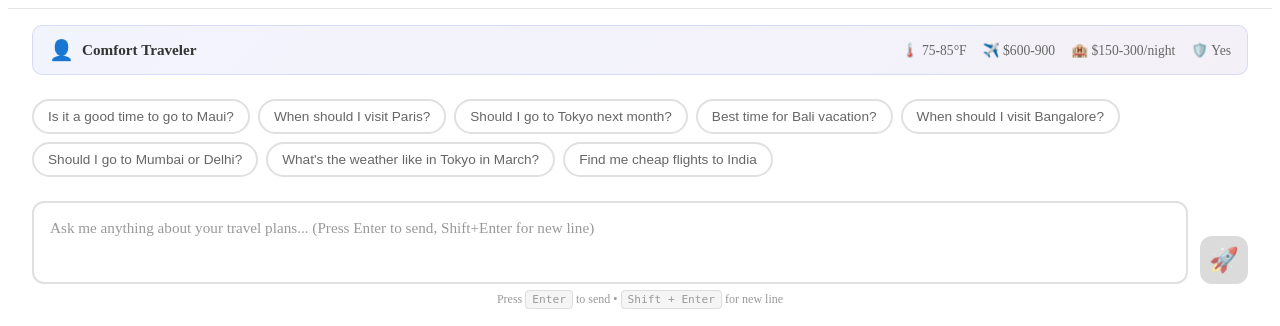
Scenario: ChatInput Component › Example Queries › fills input when example query is clicked
Click the button "Is it a good time to go to Maui?" at (141, 116), box [32,99,250,134]
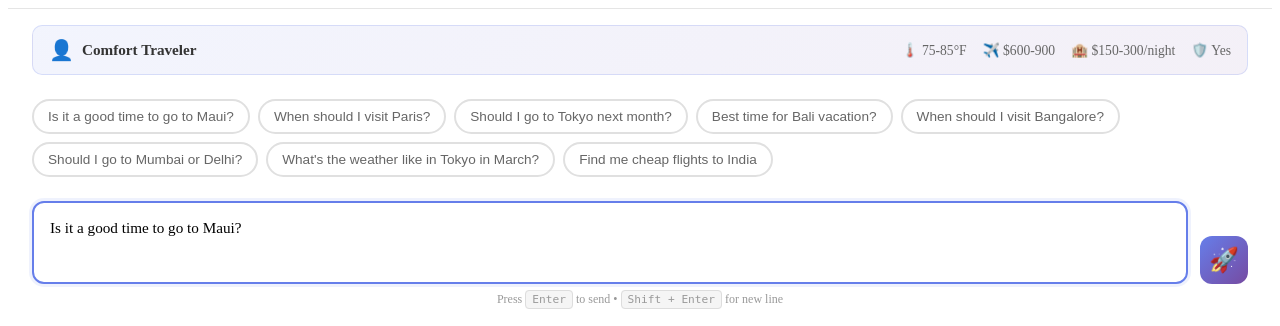
Now the text box with placeholder "Ask me anything about your travel plans" holds "Is it a good time to go to Maui?", box [32,201,1188,284]
